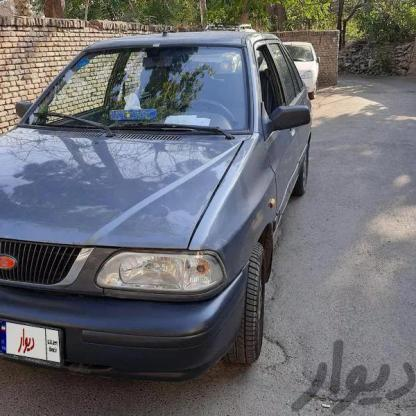Car: (0, 26, 322, 393), (277, 33, 339, 106)
